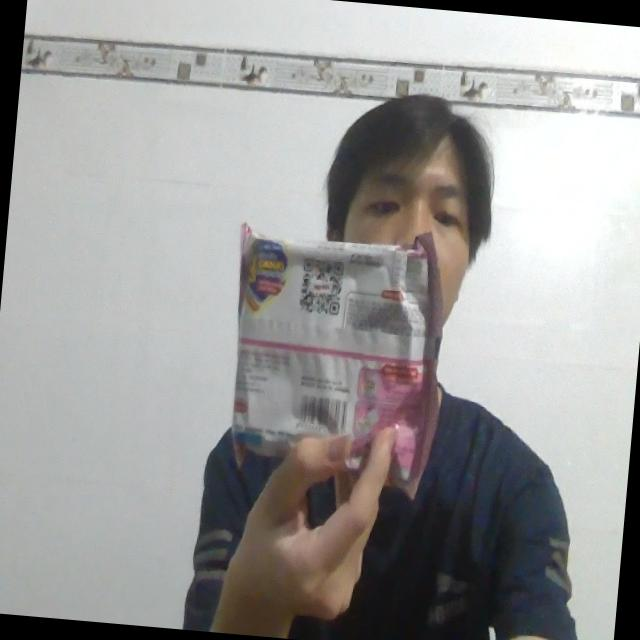mi hao hao: (196, 180, 479, 518)
